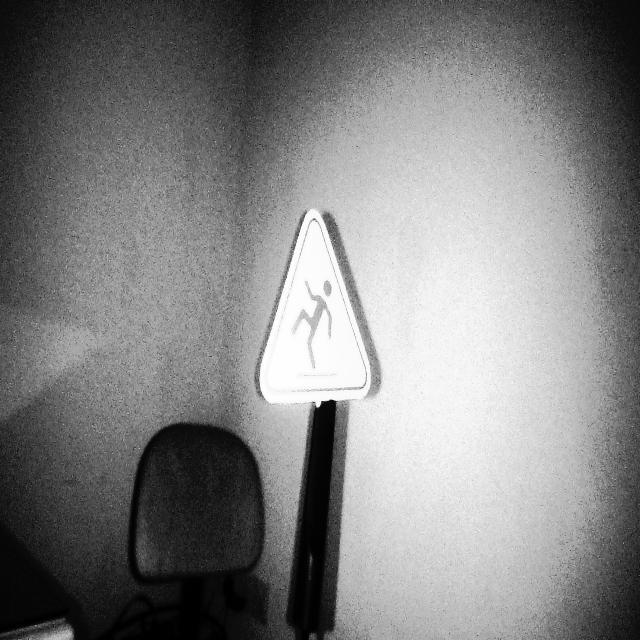Sign: (258, 208, 373, 408)
